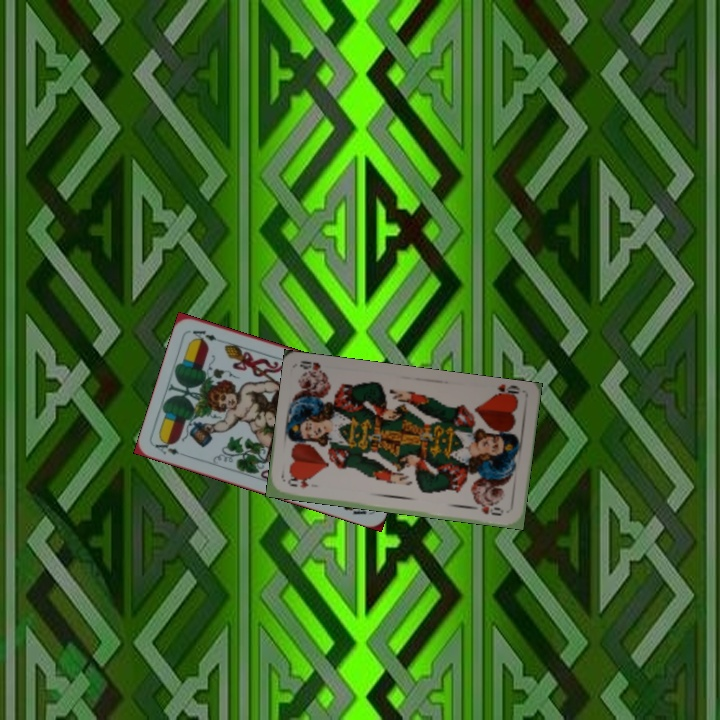EA: (151, 436, 181, 457)
HO: (486, 381, 522, 403), (284, 475, 311, 491)
